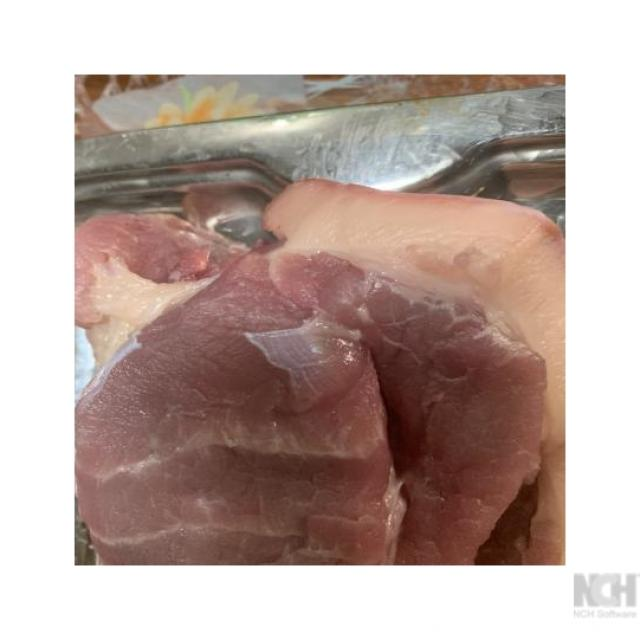rotten meat: (54, 49, 576, 575)
